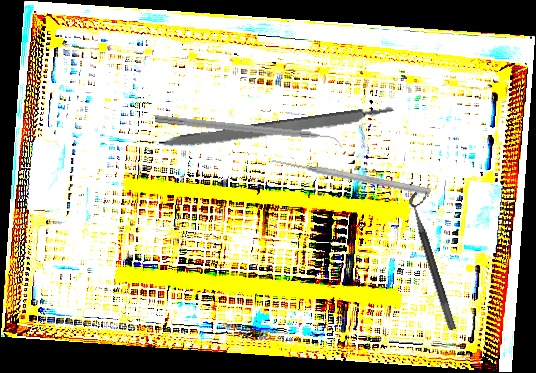Chopper: (153, 115, 344, 153)
Fixation Ring: (406, 189, 468, 331)
Pusher: (269, 155, 432, 197)
Scalpel Handle: (158, 104, 395, 154)
